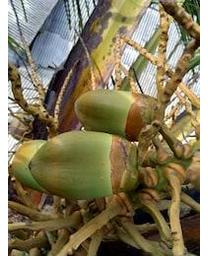coconut: (28, 131, 138, 199), (73, 88, 161, 135)
